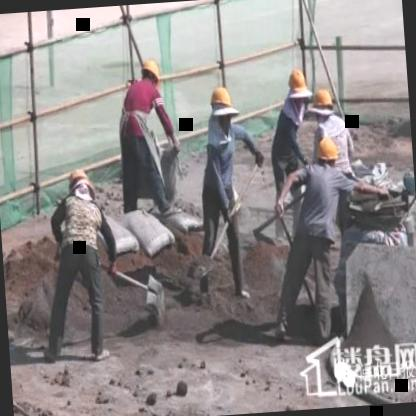helmet: (284, 65, 312, 118), (207, 84, 236, 128), (136, 54, 164, 94), (308, 85, 336, 125), (66, 170, 96, 204), (314, 135, 341, 170)
